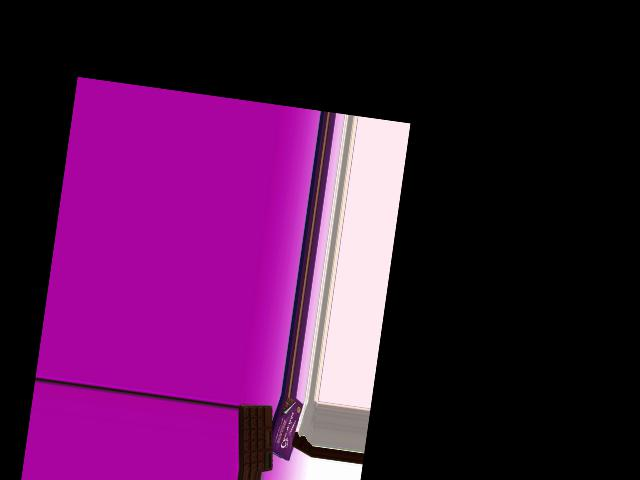chocolate: (230, 402, 282, 471)
